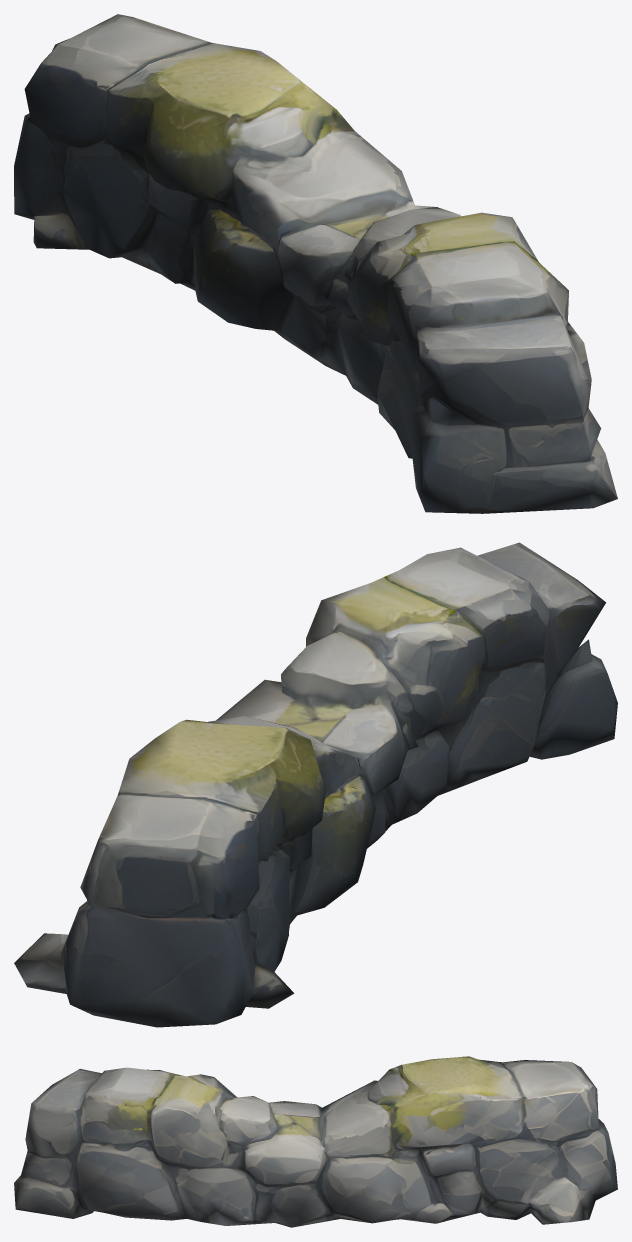
Rendered from arena_wall_b.glb.
The picture shows the model from 3 angles, top to bottom: view 1: azimuth 30°, elevation 25°; view 2: azimuth 150°, elevation 25°; view 3: azimuth 270°, elevation 25°; orthographic projection. The views are drawn at different scales.
Visible parts, largest first — view 1: tripo_node_470cab1f-fb67-4cc1-ba71-bb4e3f44f1d7; view 2: tripo_node_470cab1f-fb67-4cc1-ba71-bb4e3f44f1d7; view 3: tripo_node_470cab1f-fb67-4cc1-ba71-bb4e3f44f1d7.
Boxes of the visible parts, left/top/right/bottom form: tripo_node_470cab1f-fb67-4cc1-ba71-bb4e3f44f1d7: left=14, top=14, right=617, bottom=513; tripo_node_470cab1f-fb67-4cc1-ba71-bb4e3f44f1d7: left=14, top=542, right=617, bottom=1027; tripo_node_470cab1f-fb67-4cc1-ba71-bb4e3f44f1d7: left=14, top=1056, right=617, bottom=1227.
Bounding box in the file's own units: 1.22 × 0.85 × 3.86.
Materials: 1 (1 with a texture image).
